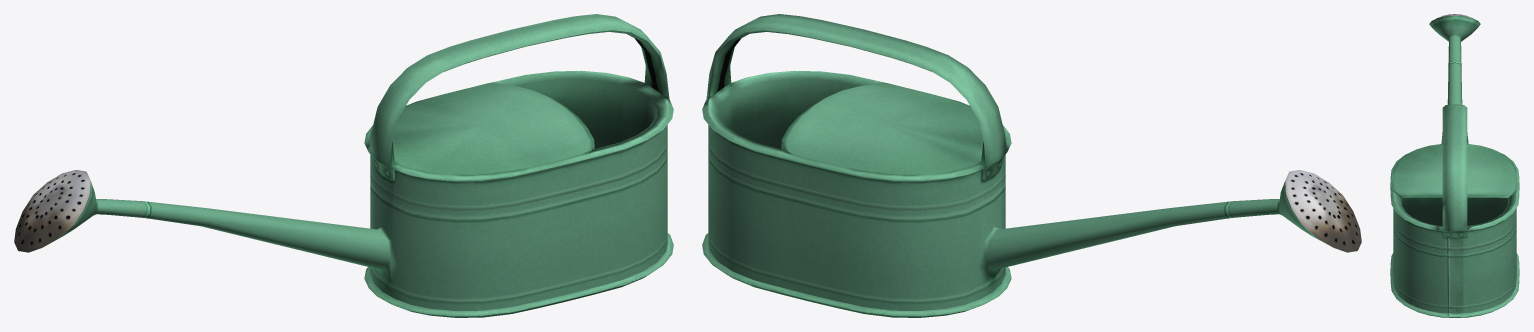
The model's file is Furniture_wateringcan_01a_LOD0.fbx.
The picture shows the model from 3 angles, left to right: view 1: azimuth 30°, elevation 25°; view 2: azimuth 150°, elevation 25°; view 3: azimuth 270°, elevation 25°; orthographic projection. The views are drawn at different scales.
Parts seen in each view (by area): view 1: Furniture_wateringcan_01a_LOD0; view 2: Furniture_wateringcan_01a_LOD0; view 3: Furniture_wateringcan_01a_LOD0.
Part boxes in pixels (x1,y1,x2,y2): Furniture_wateringcan_01a_LOD0: [14, 14, 673, 317]; Furniture_wateringcan_01a_LOD0: [702, 14, 1361, 317]; Furniture_wateringcan_01a_LOD0: [1390, 14, 1519, 317].
Bounding box in the file's own units: 80.24 × 27.71 × 22.
